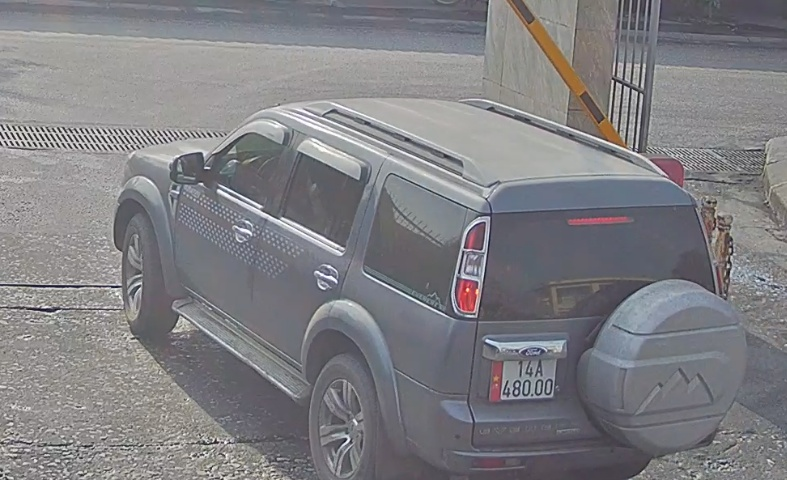vehicle plate: (491, 349, 560, 400)
